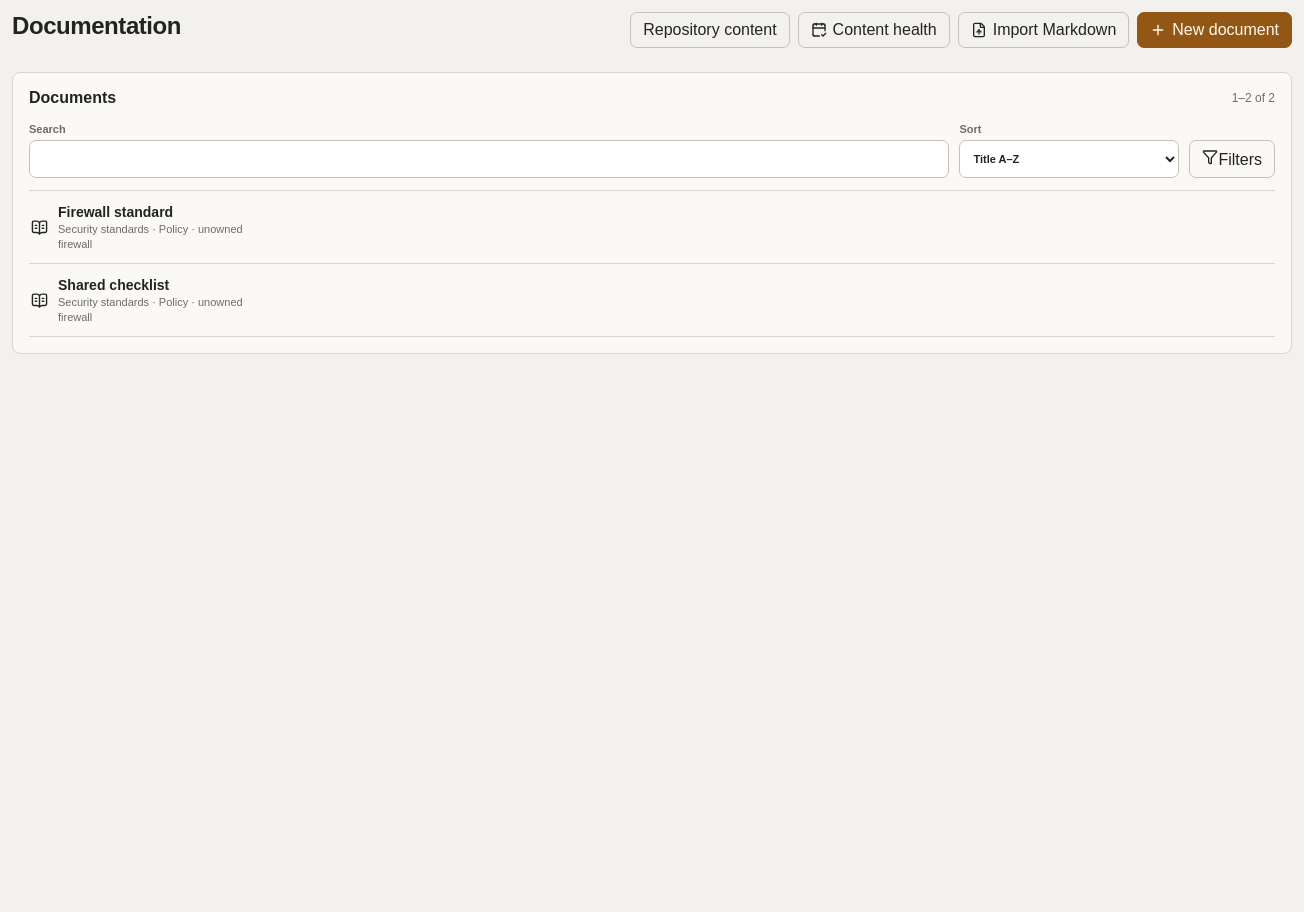
exposes document settings and opens them before the document content
Click the button "Firewall standard".
click(116, 212)  # box [29,191,1275,263]
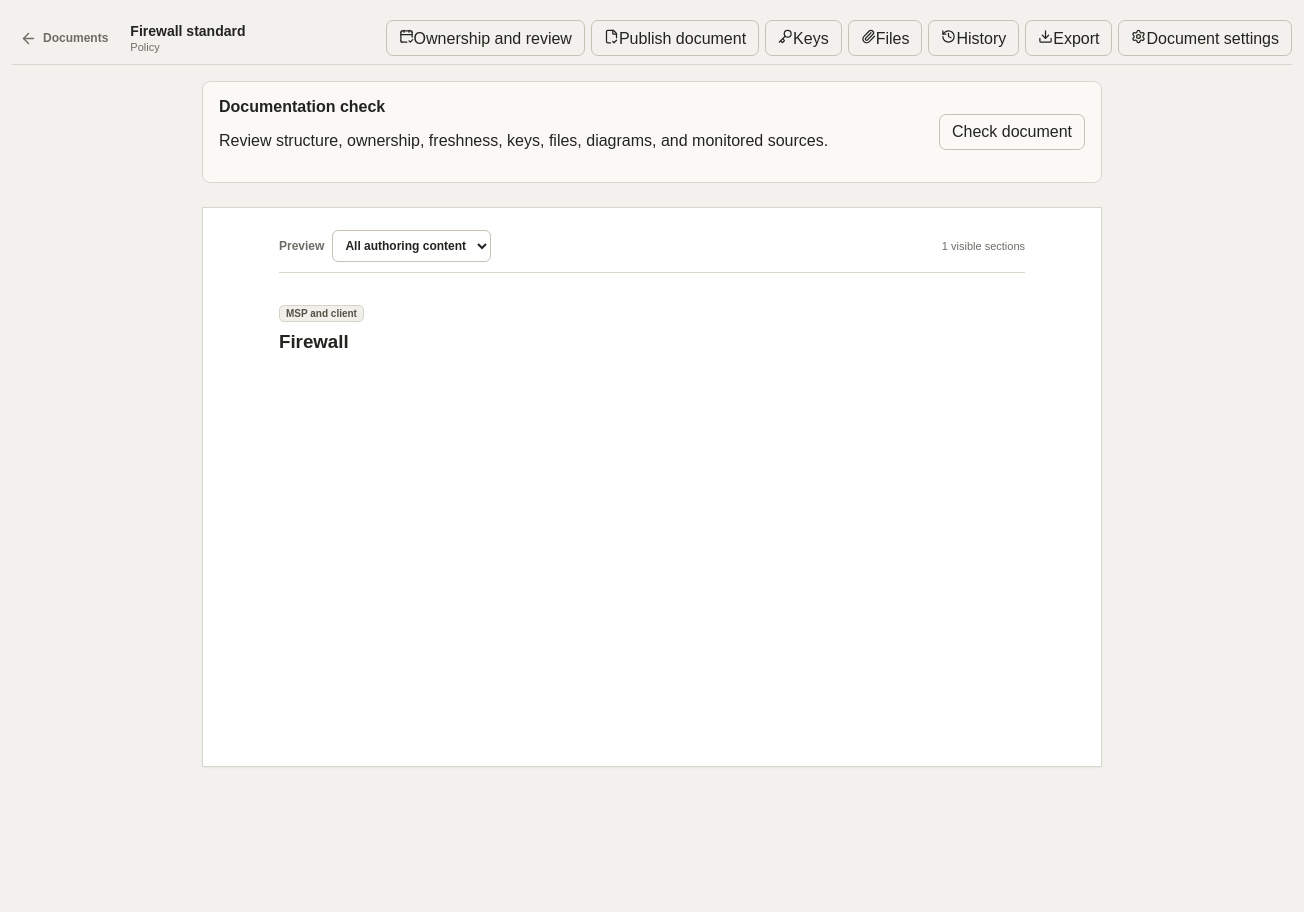
expect the button "Document settings" is shown: met
Click the button "Document settings".
click(1205, 38)  # box [1118,20,1292,56]
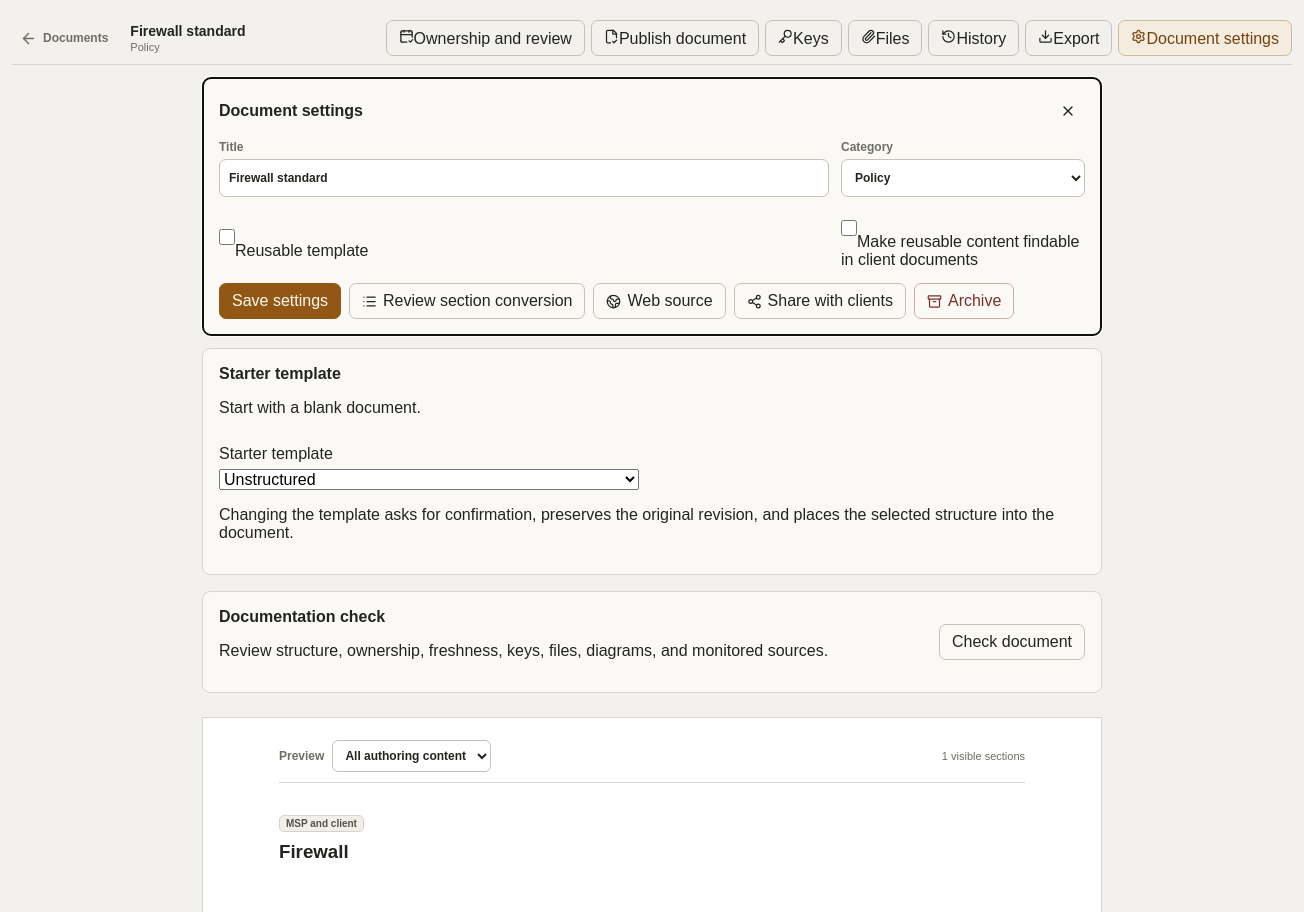
expect the button "Document settings" is expanded: met, box [1118,20,1292,56]
